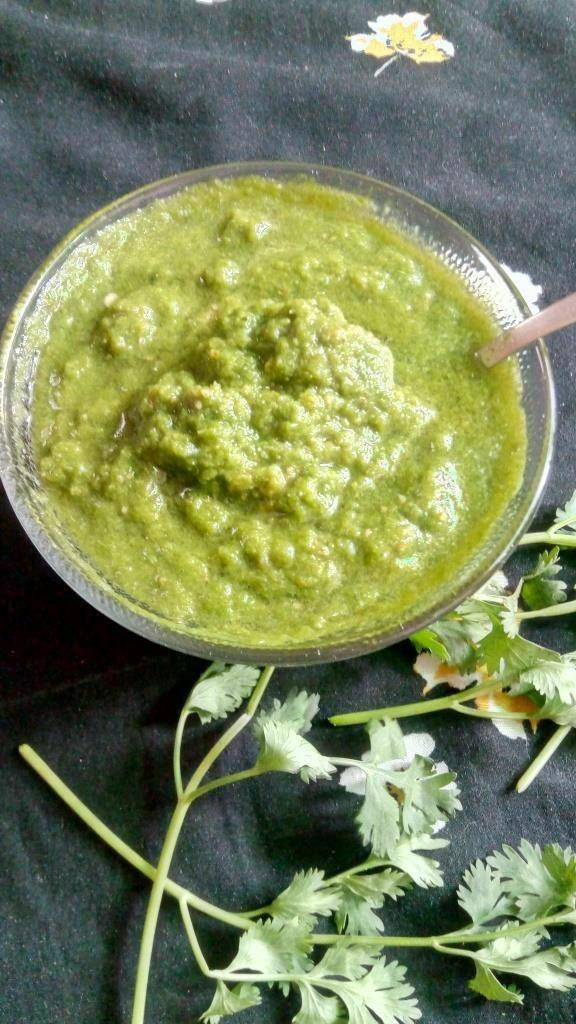GreenChutney: (28, 178, 526, 647)
